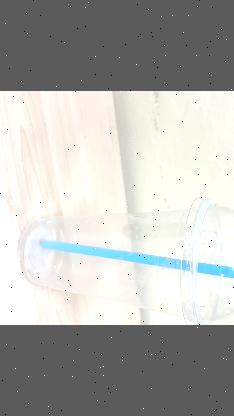Others: (20, 199, 234, 325)
